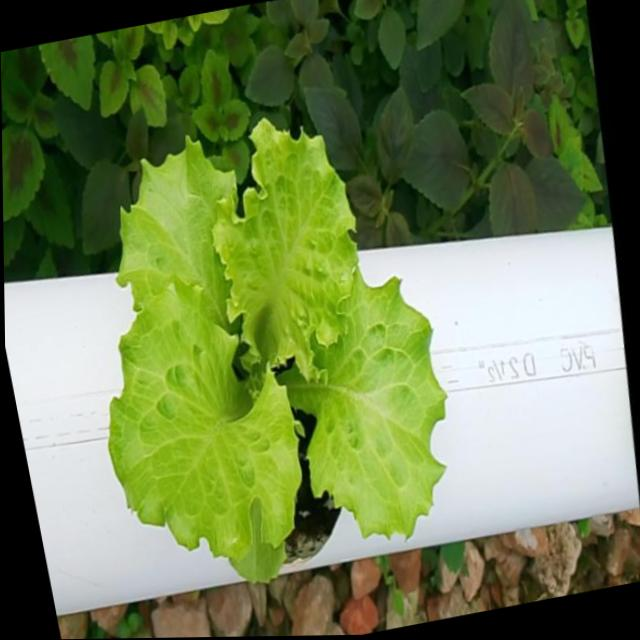Baby: (109, 110, 445, 573)
